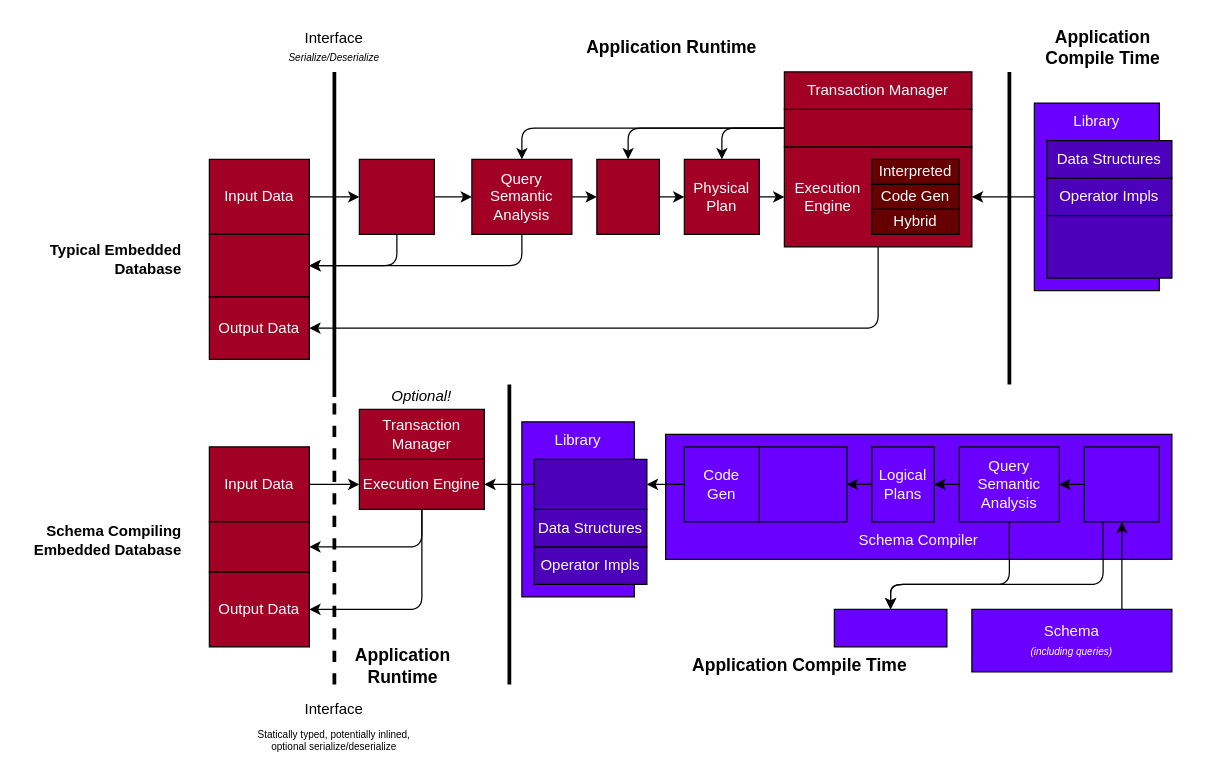
The diagram is 1205 pixels wide and 780 high, and some of its shapes have lost their labels. Each missing label, with the centre of its shape:
"Catalogue" goes at (x=877, y=127).
"Database Management (parser, plan, etc..)" goes at (x=1109, y=246).
"Input Data Errors" goes at (x=258, y=546).
"Logical Plan" goes at (x=627, y=196).
"Physical Plans" goes at (x=802, y=484).
"Queries" goes at (x=590, y=483).
"Query & Input Data Errors" goes at (x=258, y=265).
"Query Errors" goes at (x=890, y=627).
"Query Parse" goes at (x=396, y=196).
"Schema Parse" goes at (x=1121, y=484).
